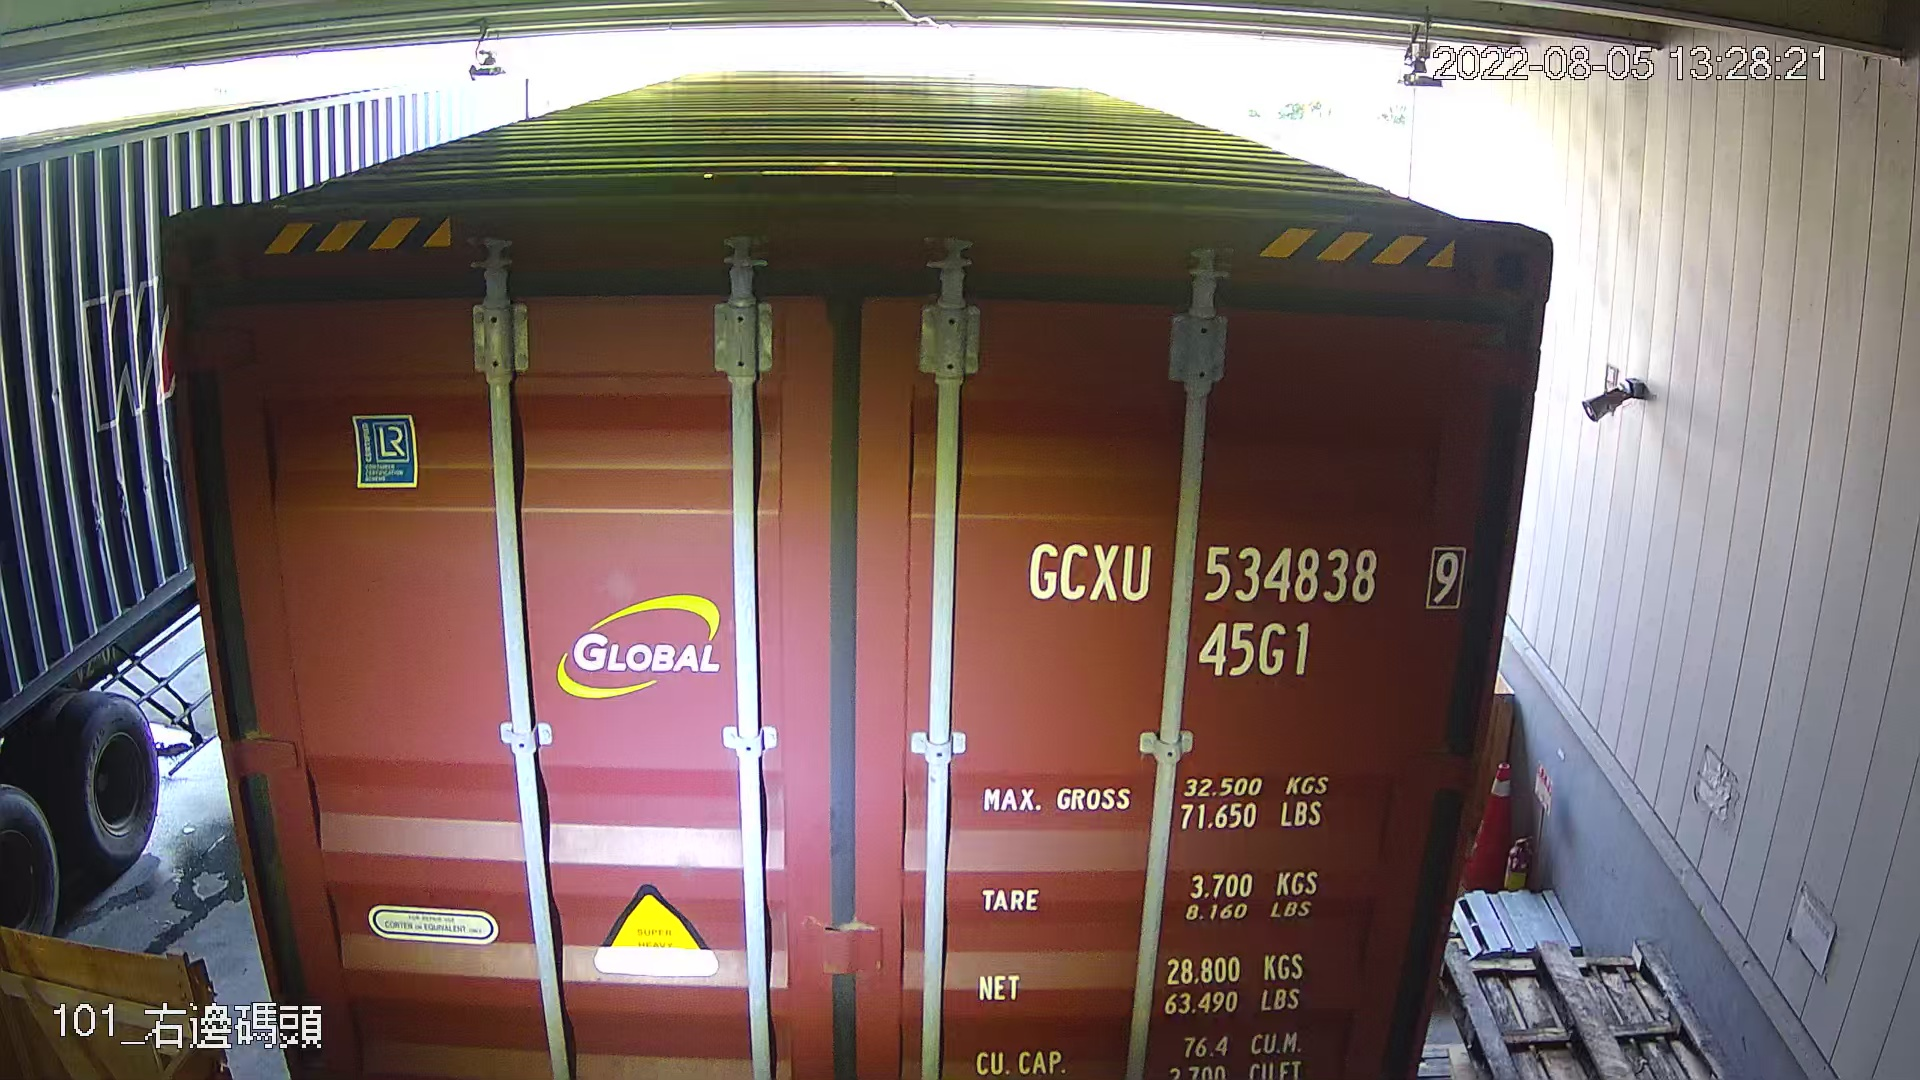container: (992, 502, 1482, 684)
